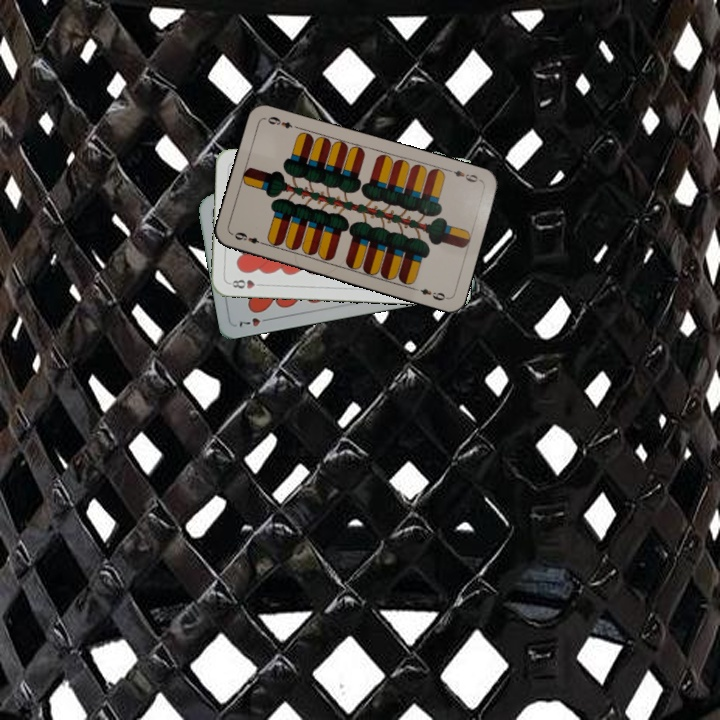E9: (444, 165, 483, 185), (230, 228, 268, 248)
H7: (235, 313, 274, 330)
H8: (225, 275, 266, 291)
